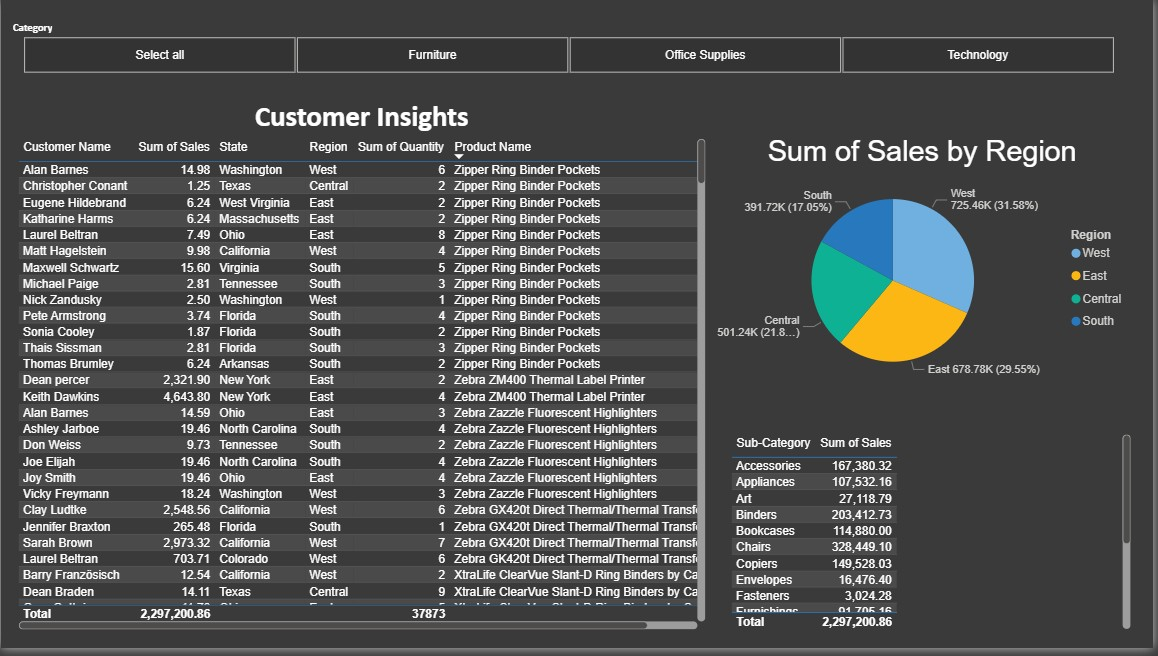

The page's visual inventory and layout, read from the dashboard file:
{"tool":"powerbi","page":{"name":"Sales","canvas":[1280,720],"ordinal":1},"visuals":[{"type":"tableEx","title":"Customer Insights","fields":{"Values":["Sample - Superstore.Customer Name","Sum(Sample - Superstore.Sales)","Sample - Superstore.State","Sample - Superstore.Region","Sum(Sample - Superstore.Quantity)","Sample - Superstore.Product Name"]},"box":[14,110,774,594],"z":0},{"type":"slicer","fields":{"Values":["Sample - Superstore.Category"]},"box":[0,18,1260,70],"z":1000},{"type":"pieChart","fields":{"Y":["Sum(Sample - Superstore.Sales)"],"Category":["Sample - Superstore.Region"]},"box":[788,150,472,286],"z":2000},{"type":"tableEx","fields":{"Values":["Sample - Superstore.Sub-Category","Sum(Sample - Superstore.Sales)"]},"box":[806,478,454,226],"z":3000}]}

Visuals, with their boxes in screenshot pixels (x1, y1, x2, y2), scaled from the page's 1280x720 canvas onto the 1158x656 screenshot:
"Customer Insights" tableEx: 13, 100, 713, 641
slicer - Sample - Superstore.Category: 0, 16, 1140, 80
pieChart - Sum(Sample - Superstore.Sales) x Sample - Superstore.Region: 713, 137, 1140, 397
tableEx - Sample - Superstore.Sub-Category x Sum(Sample - Superstore.Sales): 729, 436, 1140, 641
